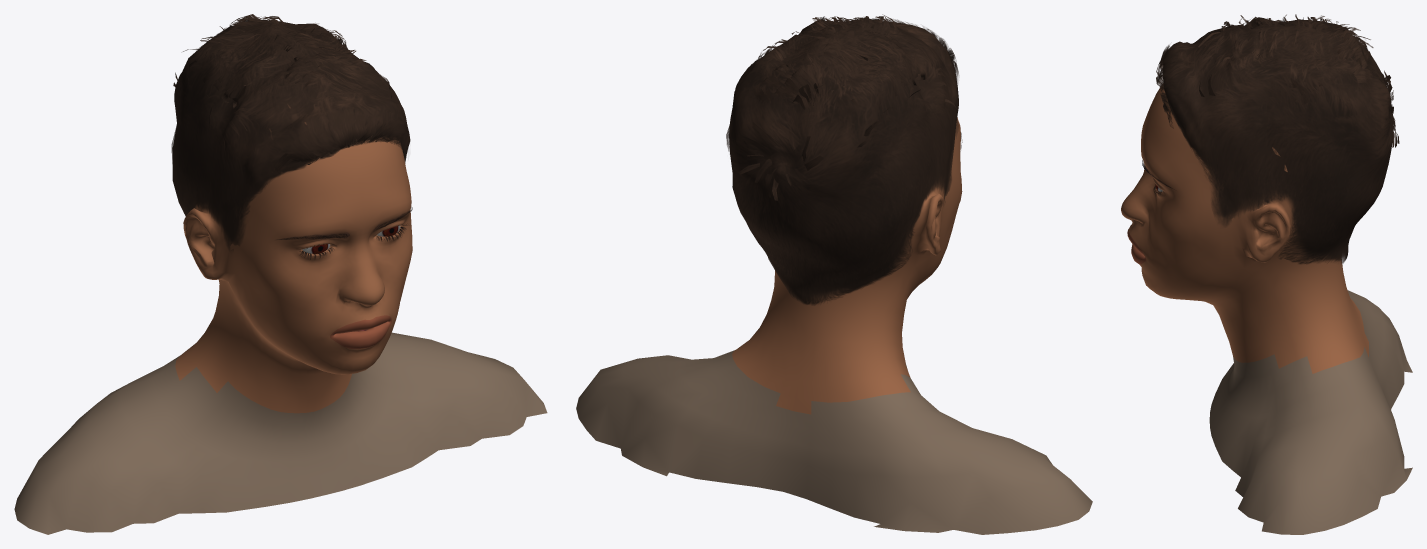
Rendered from neutral-02.glb.
3 renders of one model, left to right at view 1: azimuth 30°, elevation 25°; view 2: azimuth 150°, elevation 25°; view 3: azimuth 270°, elevation 25°, orthographic. The views are drawn at different scales.
Visible parts, largest first — view 1: mpfb-face, mpfb-face.short01; view 2: mpfb-face, mpfb-face.short01; view 3: mpfb-face, mpfb-face.short01.
Boxes of the visible parts, box(x1,y1,x2,y2) form: mpfb-face: box(14, 105, 547, 534); mpfb-face.short01: box(171, 14, 410, 250); mpfb-face: box(576, 117, 1092, 534); mpfb-face.short01: box(726, 14, 958, 305); mpfb-face: box(1121, 86, 1412, 534); mpfb-face.short01: box(1156, 14, 1399, 264).
Size of the model in its own units: 0.4296 by 0.3463 by 0.231.
9 materials, 6 textured.
